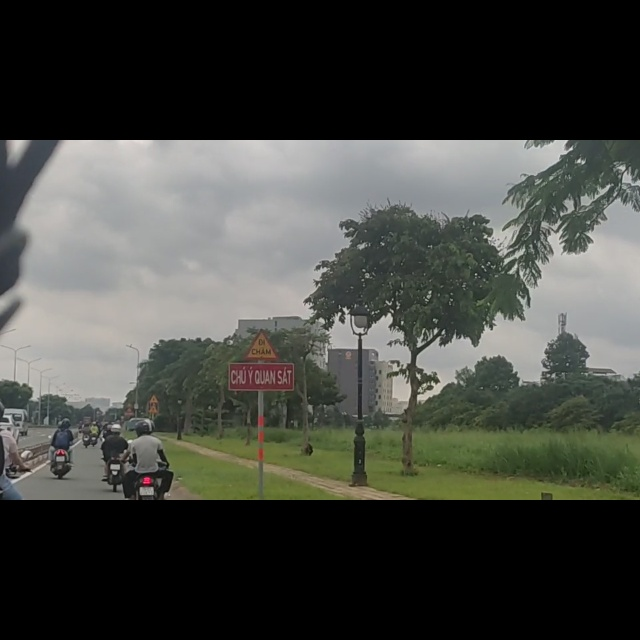bien_nguy_hiem: (247, 335, 277, 389), (149, 452, 159, 467), (149, 471, 158, 485)
